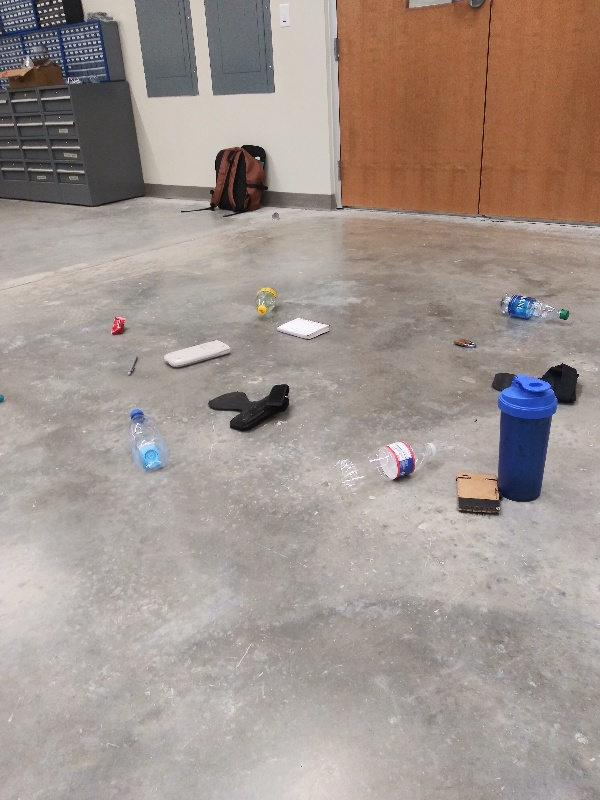bottle: (332, 439, 442, 504), (126, 406, 172, 474), (496, 291, 573, 325), (253, 283, 279, 317)
